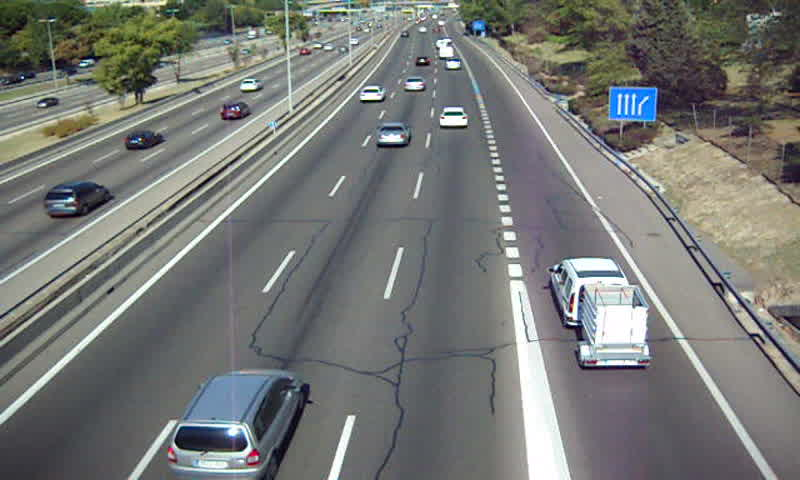car: (167, 369, 303, 480), (375, 123, 411, 147), (438, 107, 469, 128), (359, 85, 385, 104), (402, 76, 427, 93), (446, 58, 463, 71)
van: (549, 258, 631, 328)
